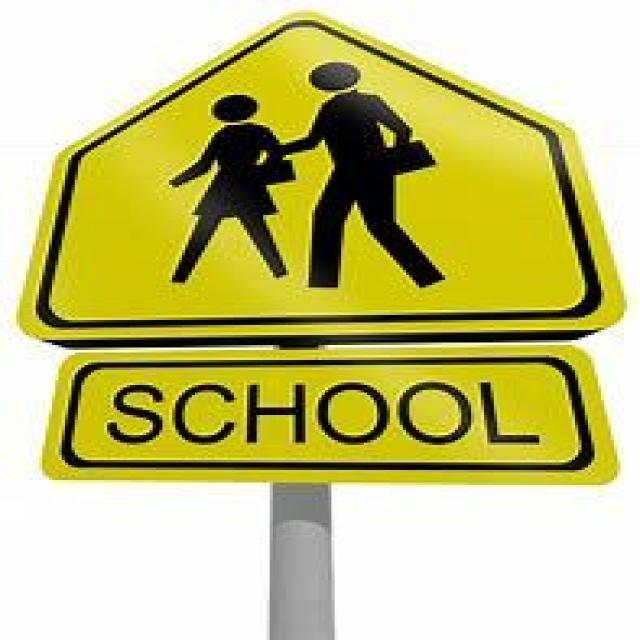SCHOOL_AHEAD: (22, 7, 640, 342)
